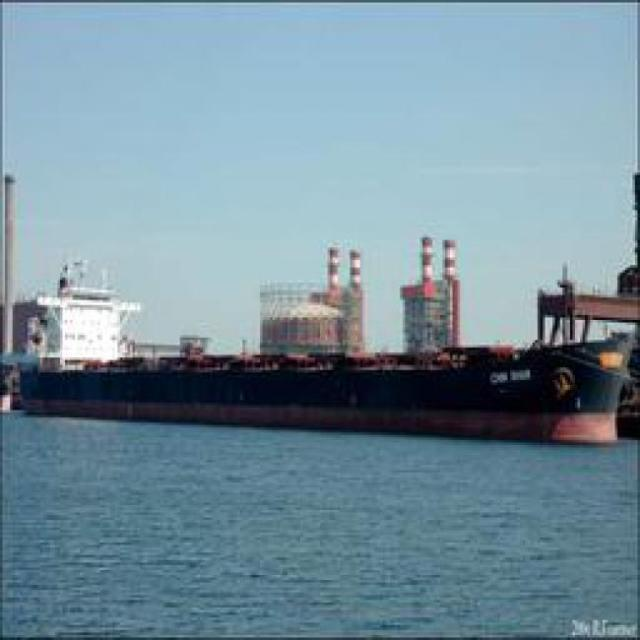boat: (22, 291, 625, 450)
